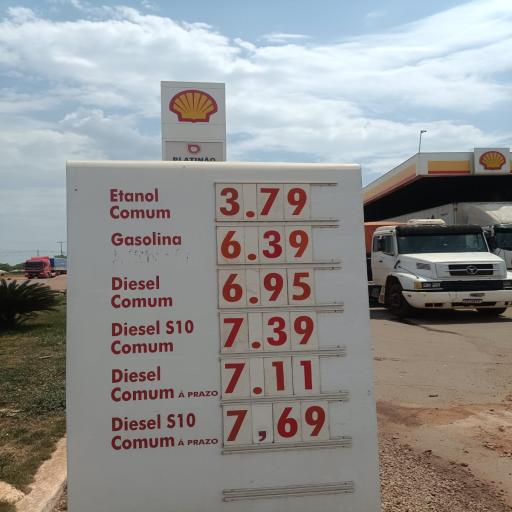ETANOL: (100, 181, 184, 225)
GASOLINA C: (101, 231, 194, 256)
S10: (101, 315, 205, 357)
S500: (99, 271, 197, 313)
placa: (66, 164, 374, 474)
preco: (214, 314, 322, 350), (214, 182, 312, 220), (215, 272, 319, 307), (218, 228, 312, 266)
